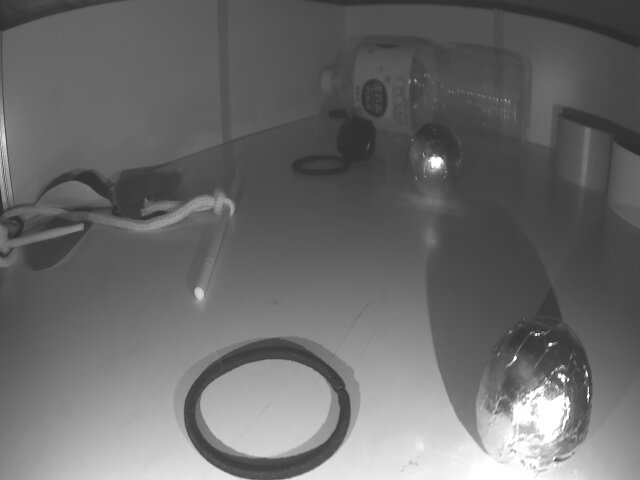Dead: (336, 114, 376, 164)
Live: (473, 308, 593, 479), (406, 120, 464, 196)
